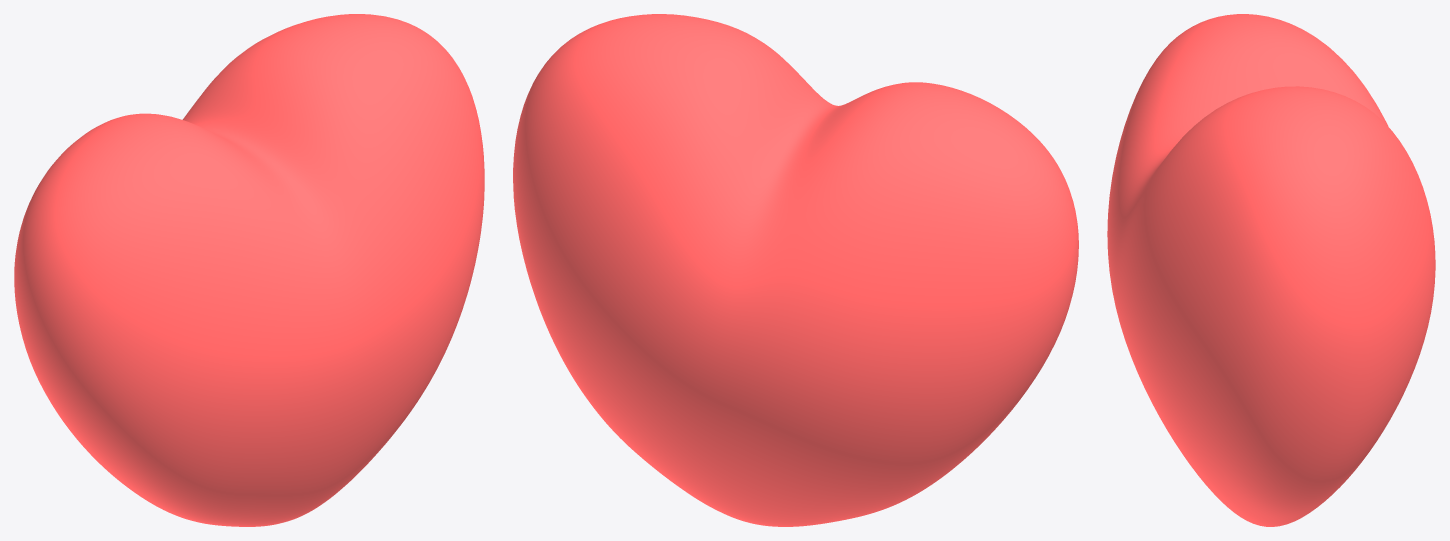
Rendered from Heart.glb.
The picture shows the model from 3 angles, left to right: view 1: azimuth 30°, elevation 25°; view 2: azimuth 150°, elevation 25°; view 3: azimuth 270°, elevation 25°; orthographic projection. The views are drawn at different scales.
Visible parts, largest first — view 1: Heart; view 2: Heart; view 3: Heart.
Boxes of the visible parts, x1=… form: Heart: x1=14, y1=14, x2=484, y2=526; Heart: x1=513, y1=14, x2=1078, y2=526; Heart: x1=1107, y1=14, x2=1435, y2=526.
Bounding box in the file's own units: 0.4175 × 0.3847 × 0.2522.
